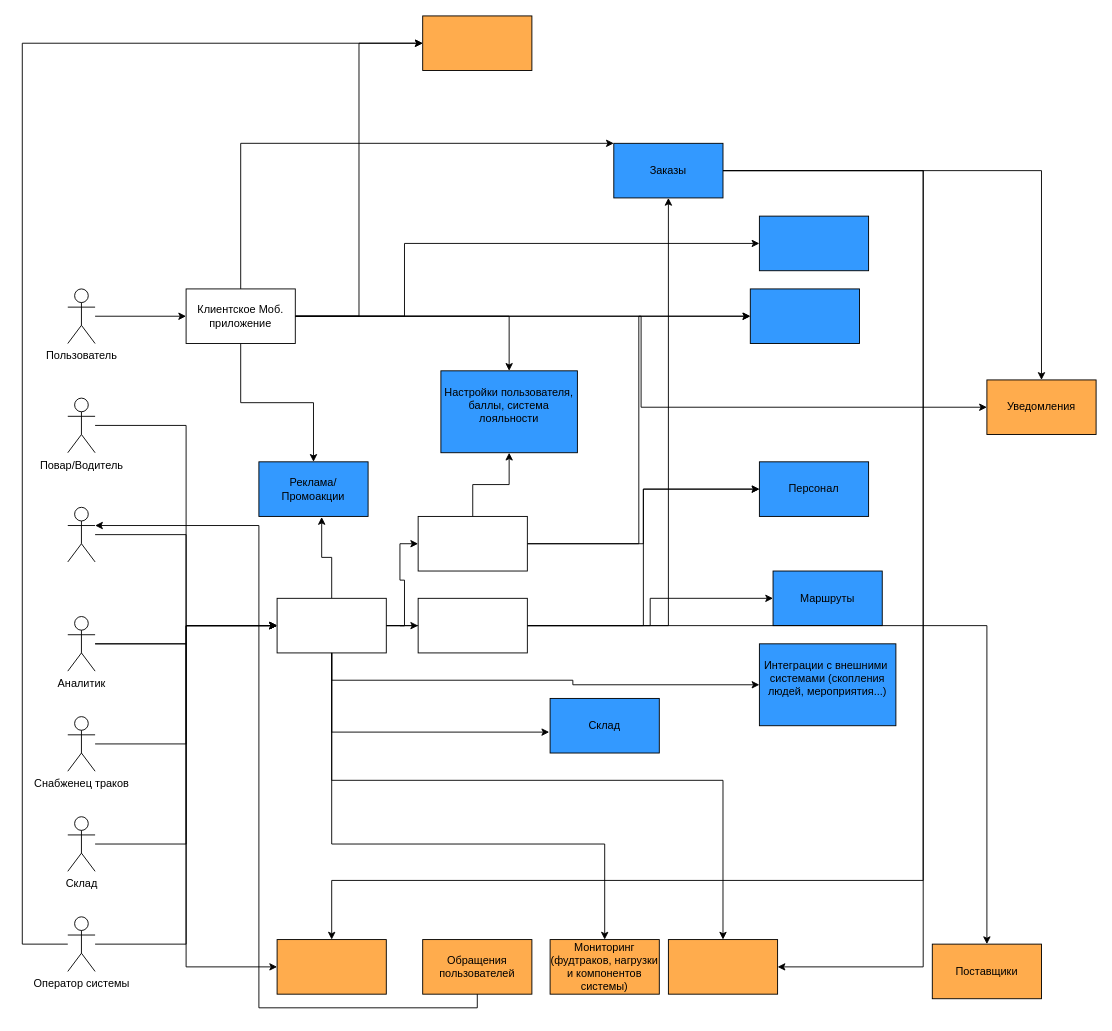
This 1112x1031 diagram has some shape labels left out. Each missing label, with the box of its shape:
Админка (добавление продуктов, траков, пользователей...): (417, 516, 527, 571)
Аналитическая система: (276, 939, 386, 994)
Аутентификация/авторизация: (422, 15, 532, 71)
Бухгалтерия: (667, 939, 778, 994)
Меню: (758, 215, 869, 271)
Рецепты: (749, 288, 859, 344)
Сайт сотрудников: (276, 597, 386, 653)
Тех. поддержка: (67, 506, 95, 562)
Управление траком (маршруты, заказы): (417, 597, 527, 653)
